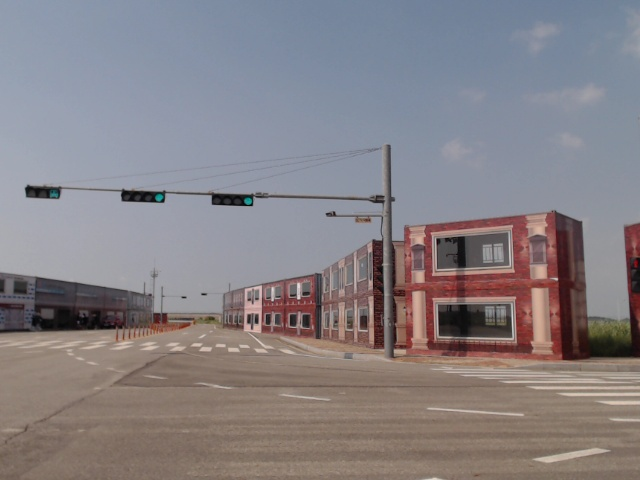straight_green_4: (121, 191, 165, 203), (211, 193, 254, 205)
